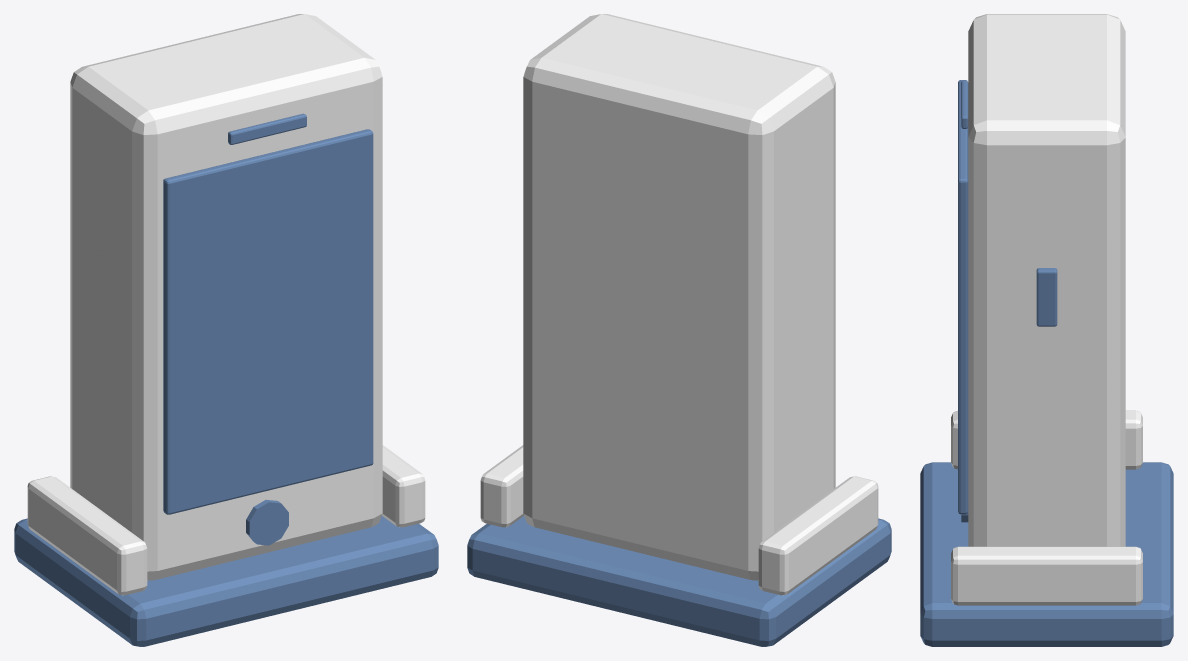
The model's file is mobile.glb.
The picture shows the model from 3 angles, left to right: view 1: azimuth 30°, elevation 25°; view 2: azimuth 150°, elevation 25°; view 3: azimuth 270°, elevation 25°; orthographic projection.
Visible parts, largest first — view 1: handset, screen, dock, cradle.-1, cradle.1, home, speaker; view 2: handset, dock, cradle.-1, cradle.1; view 3: handset, dock, cradle.1, screen, cradle.-1, side-key, speaker.
Boxes of the visible parts, x1,y1,x2,y2 form: handset: (70,14,382,580); screen: (163,129,373,514); dock: (14,516,438,646); cradle.-1: (27,476,147,595); cradle.1: (382,445,425,527); home: (246,499,288,545); speaker: (228,113,306,144); handset: (523,14,835,580); dock: (467,516,891,646); cradle.-1: (758,476,878,595); cradle.1: (480,445,523,527); handset: (968,14,1125,546); dock: (920,462,1173,646); cradle.1: (951,546,1142,605); screen: (958,80,968,514); cradle.-1: (951,410,1142,469); side-key: (1036,268,1057,326); speaker: (961,80,968,128).
Bounding box in the file's own units: 1.04 × 1.64 × 0.74.
